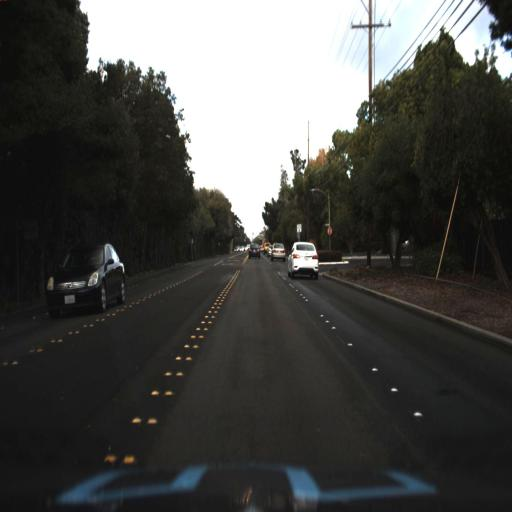car: (46, 242, 128, 314), (285, 238, 320, 281), (268, 239, 282, 262), (245, 244, 261, 263)
